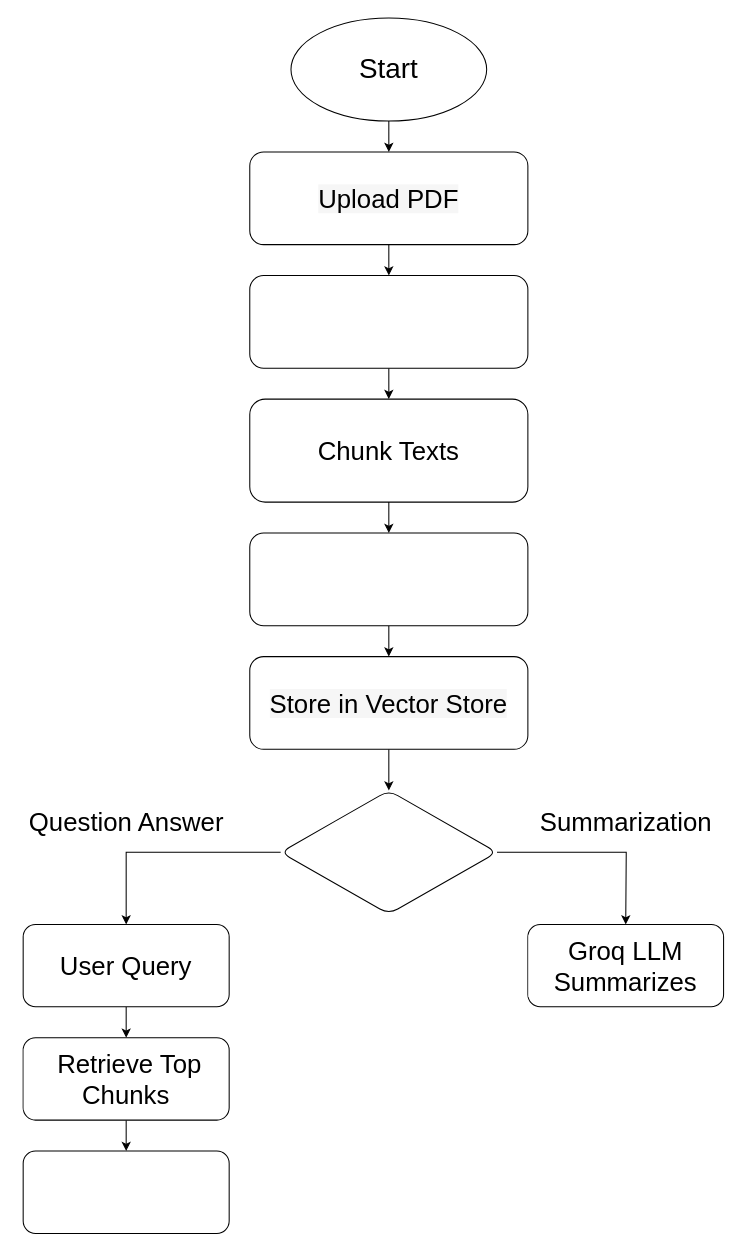
Some shapes in this 742 by 1251 pixel diagram are drawn without their labels. The centre of each missing label's shape, as x and y in pixels:
Extract Text Content: point (388, 321)
Generate Embeddings: point (388, 579)
Groq LLM Answers: point (125, 1191)
Summarize or QA: point (388, 851)
